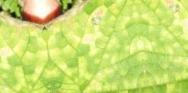Tomato leaf bacterial spot: (37, 0, 155, 93)
